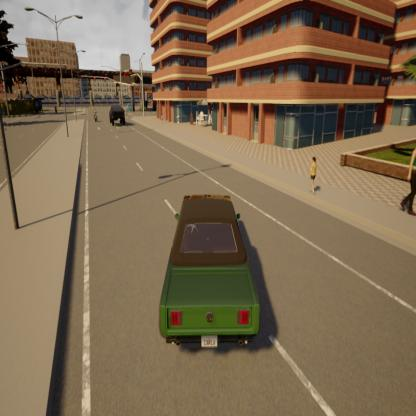Cars: (152, 182, 266, 362), (108, 102, 126, 128)
Pedestrian: (391, 142, 416, 219), (306, 152, 321, 201)
